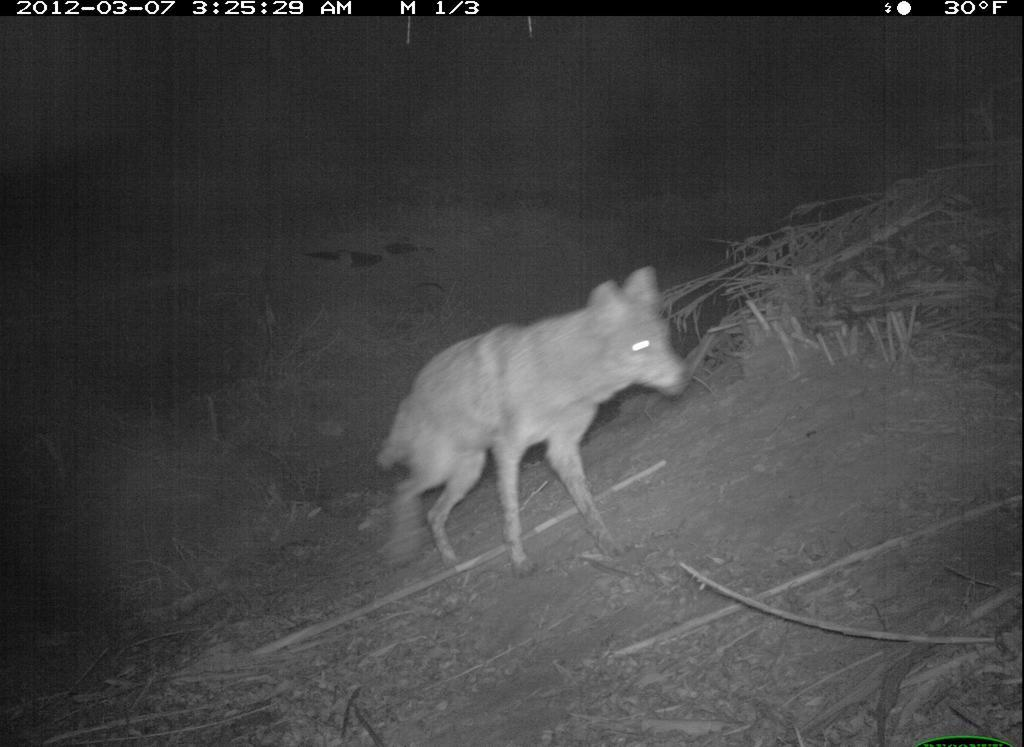coyote: (365, 262, 701, 585)
